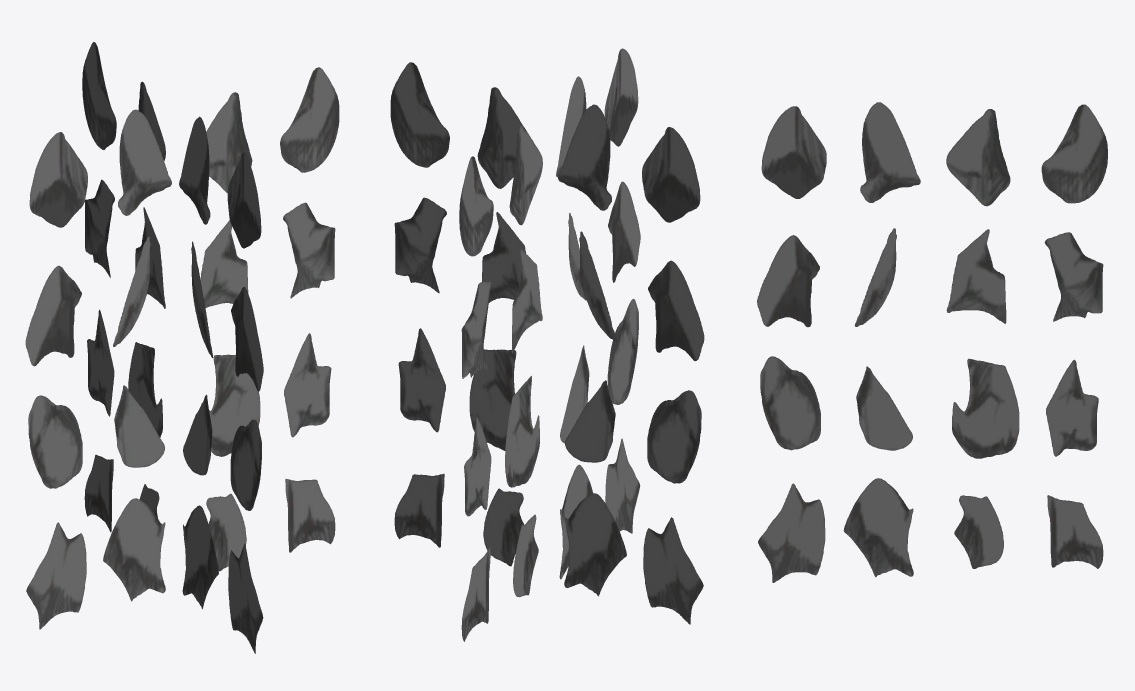
Rendered from effect_models-03.FBX.
The picture shows the model from 3 angles, left to right: view 1: azimuth 30°, elevation 25°; view 2: azimuth 150°, elevation 25°; view 3: azimuth 270°, elevation 25°; orthographic projection. The views are drawn at different scales.
Visible parts, largest first — view 1: Plane001; view 2: Plane001; view 3: Plane001.
Part boxes in pixels (box(x1,y1,x2,y2)): Plane001: box(25, 42, 339, 653); Plane001: box(390, 48, 704, 641); Plane001: box(757, 102, 1107, 582).
Bounding box in the file's own units: 21.32 × 31.52 × 21.32.
